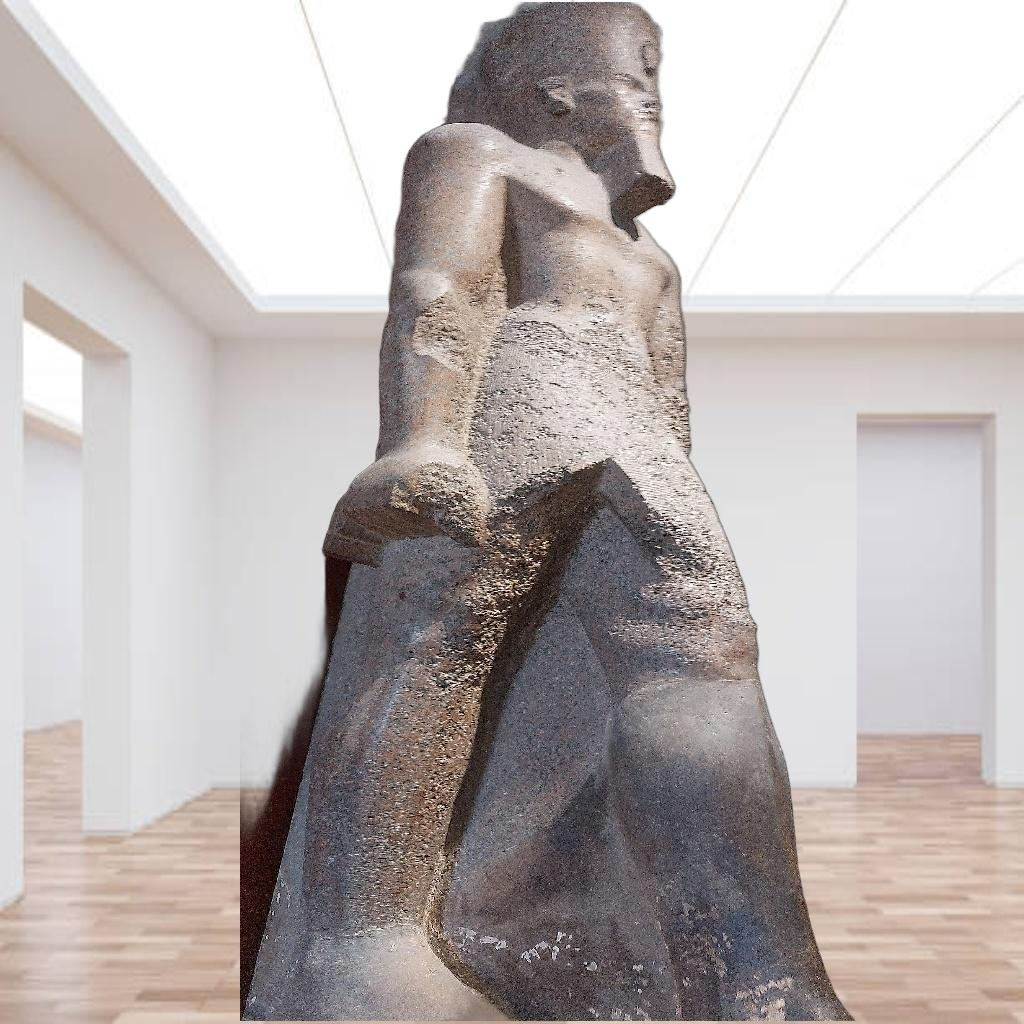Senwosret III: (240, 2, 860, 1021)
